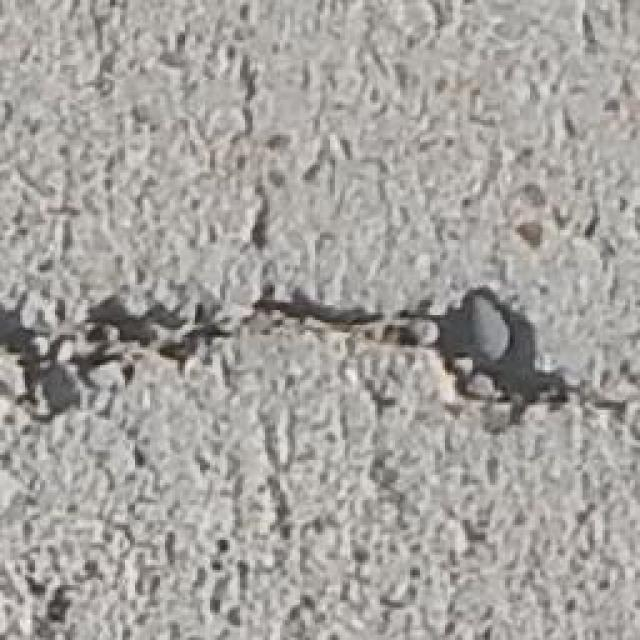concrete-crack: (0, 279, 640, 438)
